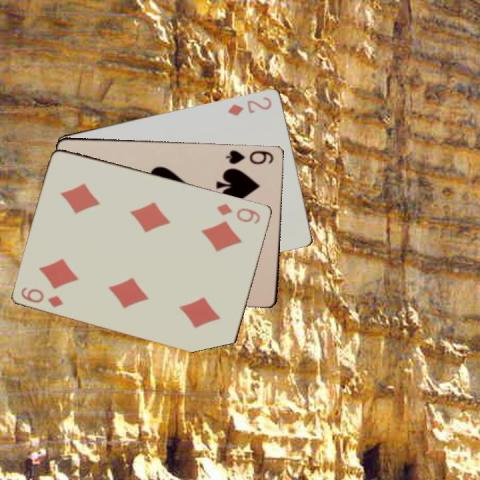2d: (226, 93, 274, 117)
6d: (213, 200, 262, 225), (18, 284, 65, 310)
6s: (222, 147, 274, 166)
